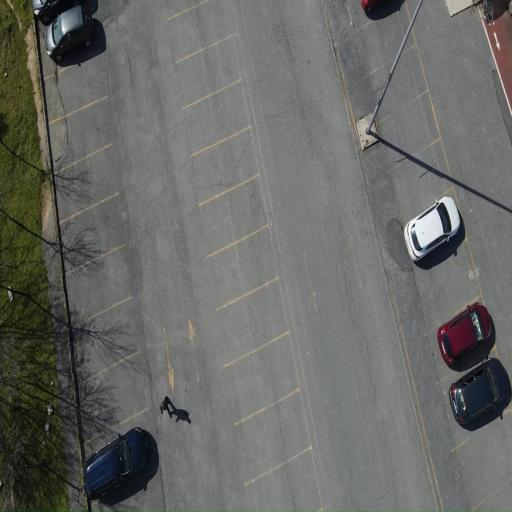car: (86, 428, 147, 499), (450, 359, 507, 424), (404, 197, 460, 261), (438, 303, 491, 364), (45, 6, 93, 61), (32, 0, 80, 23), (360, 0, 382, 12)
person: (160, 396, 171, 417)
